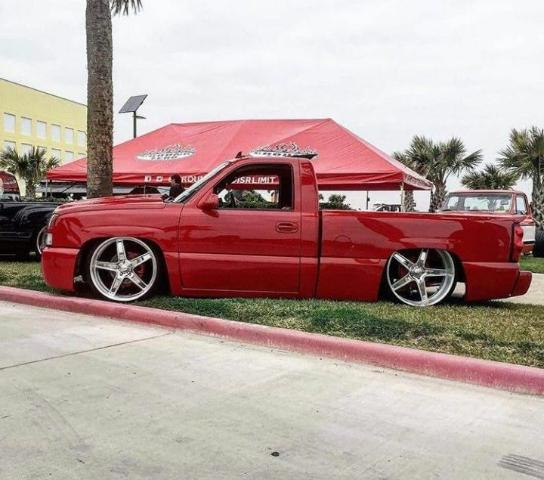pickup-truck: (39, 153, 534, 308)
